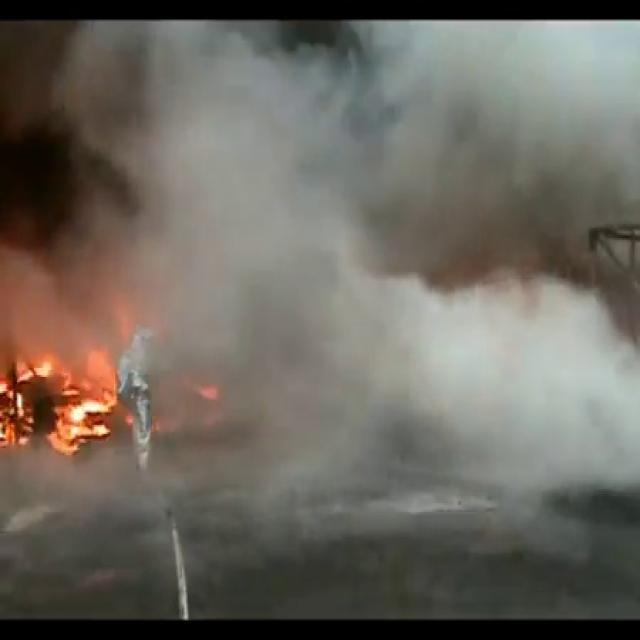Fire: (0, 334, 119, 457)
Smoke: (15, 20, 640, 558)
